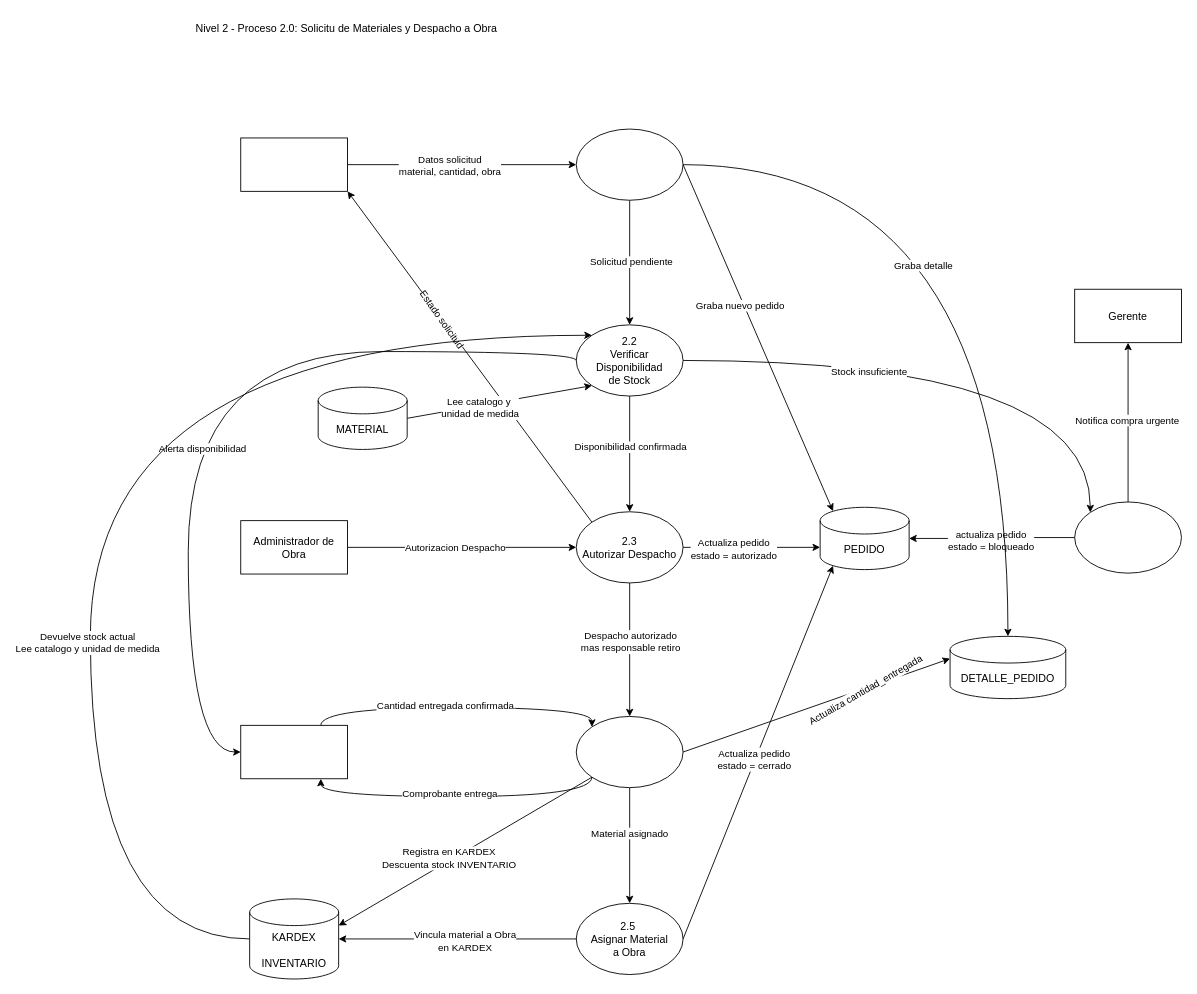
The diagram is 1197 pixels wide and 994 high, and some of its shapes have lost their labels. Each missing label, with the box of its shape:
2.1 Solicitar Material desde Obra: (575, 128, 683, 200)
2.4 Registrar Salida de Almacen: (575, 716, 683, 788)
2.6 Registrar Compra de Emergencia: (1074, 501, 1181, 573)
Encargado Almacen: (240, 724, 348, 779)
Ingeniero: (240, 137, 348, 191)
